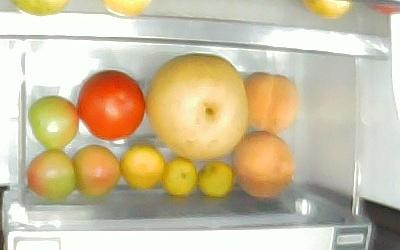peach: (230, 130, 293, 197), (242, 70, 297, 133)
pear: (143, 52, 248, 160)
tangerine: (119, 143, 165, 190), (195, 160, 234, 197), (161, 158, 196, 195)
tomato: (75, 68, 145, 139), (27, 94, 79, 150), (70, 143, 120, 197), (25, 148, 76, 199)
